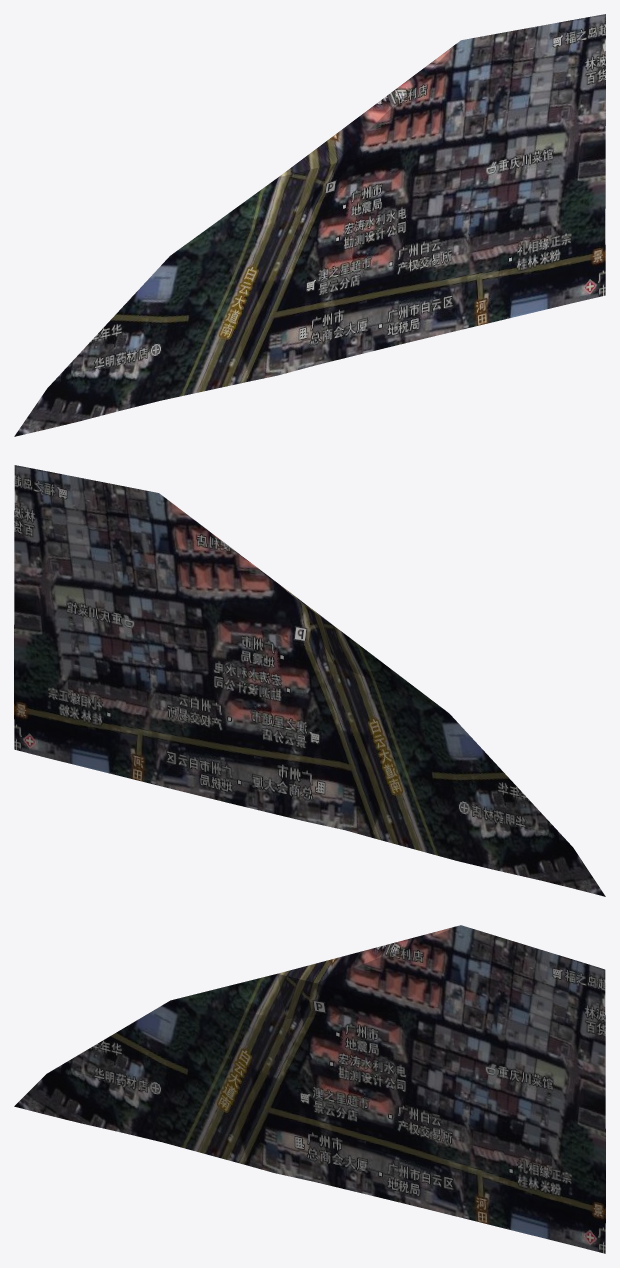
The picture shows the model from 3 angles, top to bottom: view 1: azimuth 30°, elevation 25°; view 2: azimuth 150°, elevation 25°; view 3: azimuth 330°, elevation 25°; orthographic projection.
Parts seen in each view (by area): view 1: 0_0_1_3_1_1; view 2: 0_0_1_3_1_1; view 3: 0_0_1_3_1_1.
Part boxes in pixels (box(x1,y1,x2,y2)): 0_0_1_3_1_1: box(14, 14, 605, 436); 0_0_1_3_1_1: box(14, 465, 605, 896); 0_0_1_3_1_1: box(14, 925, 605, 1253).
Bounding box in the file's own units: 354 × 167 × 11.64.
1 material, 1 textured.
